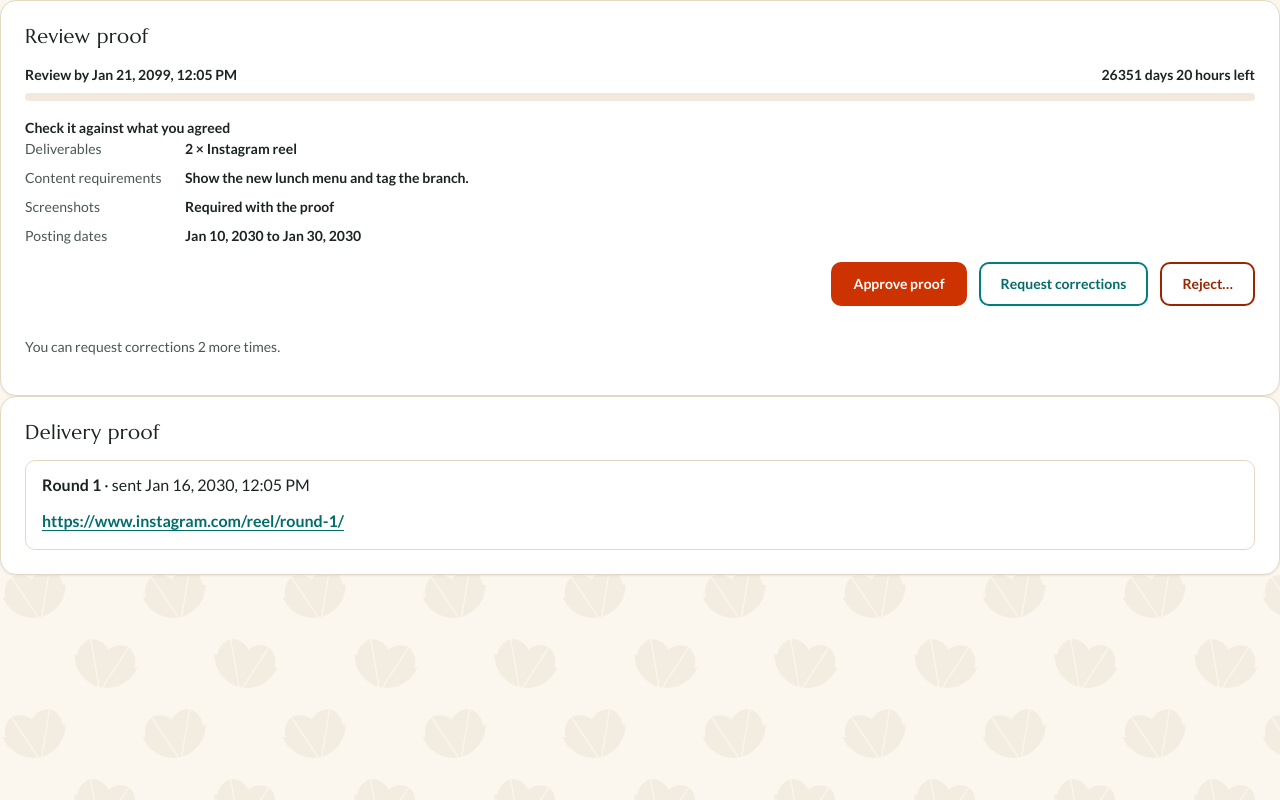
lets the brand check the agreement and approve, then says what approval means today
Check: the text "2 × Instagram reel" is shown, box [185,140,297,157]
Check: the text "Show the new lunch menu and tag the branch." is shown, box [185,169,469,186]
Click the button "Approve proof" at (899, 284), box [832,262,967,306]
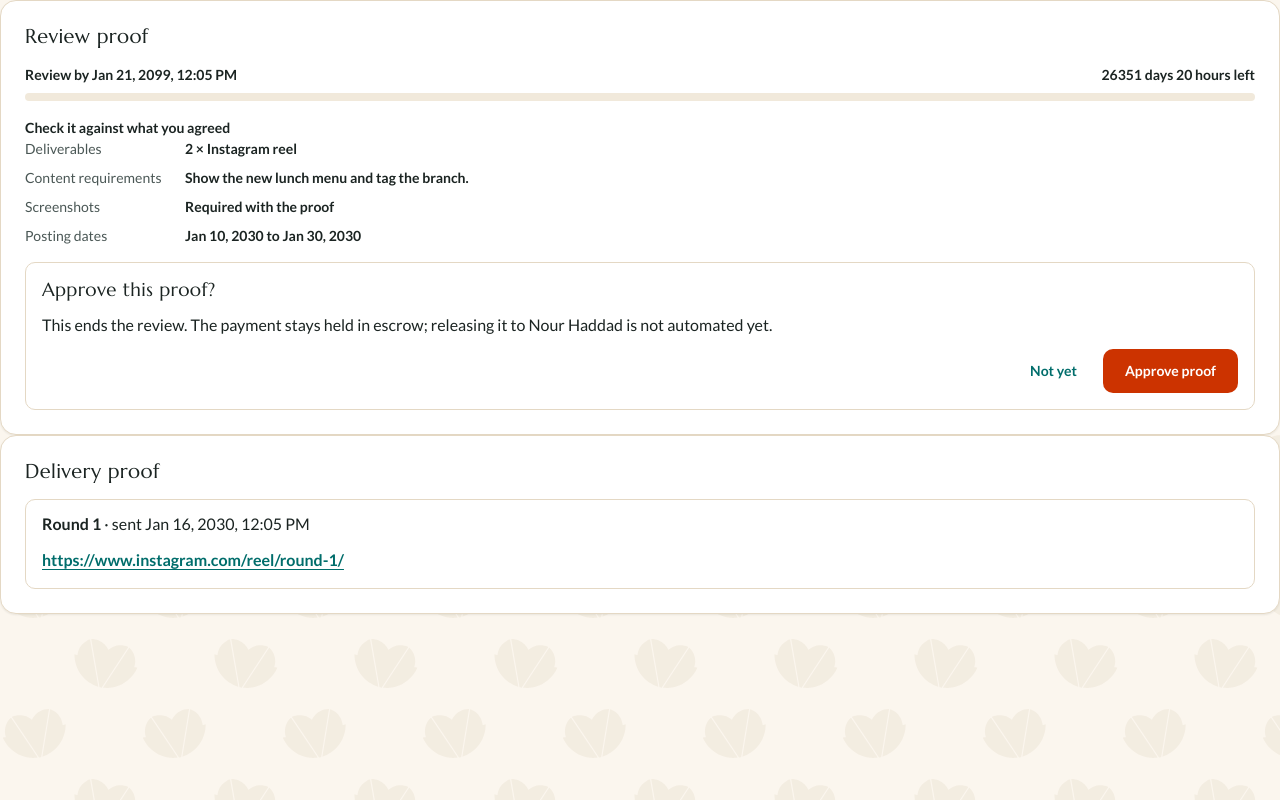
Click the button "Approve proof" at (1170, 370), box [1103,348,1238,392]
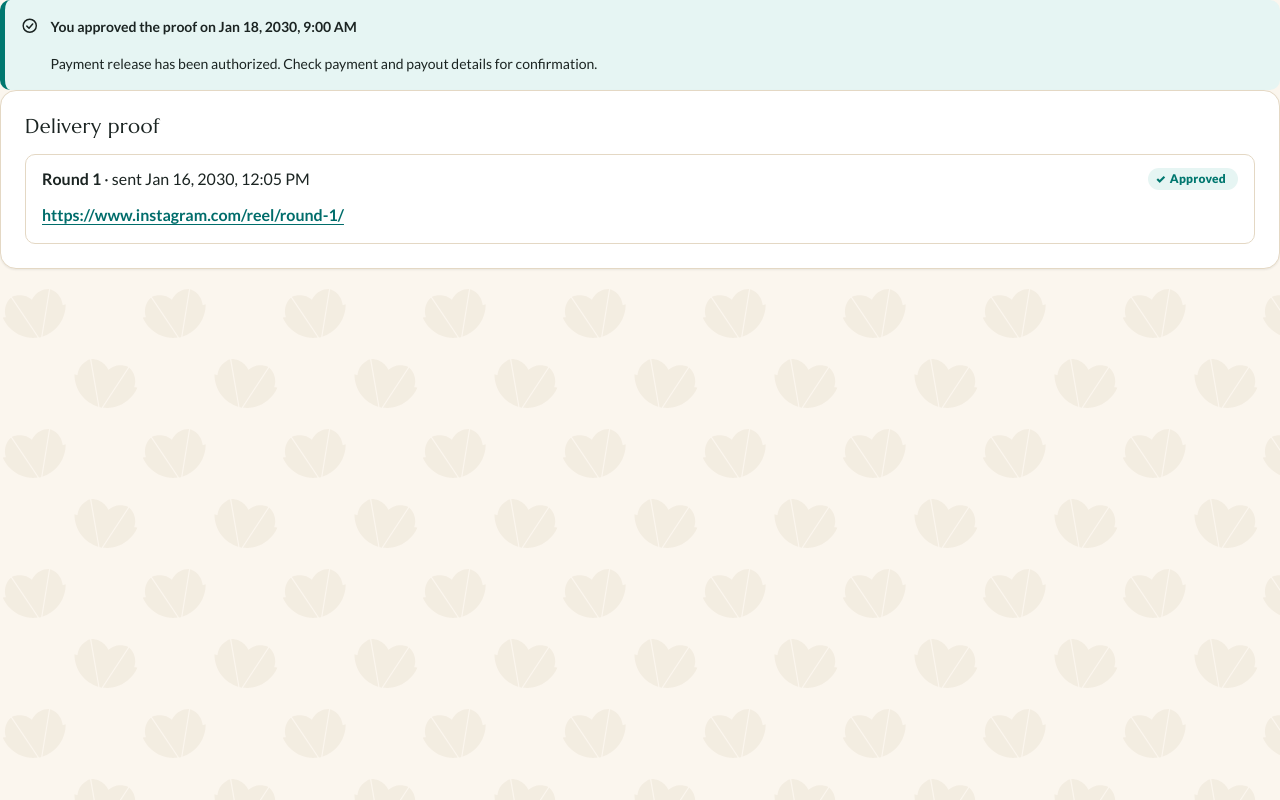
Check: the text "You approved the proof on Jan 18, 2030, 9:00 AM" is shown, box [50,18,357,35]
Check: the text "Payment release has been authorized" is shown, box [50,55,597,72]
Check: the heading "Review proof" is gone
